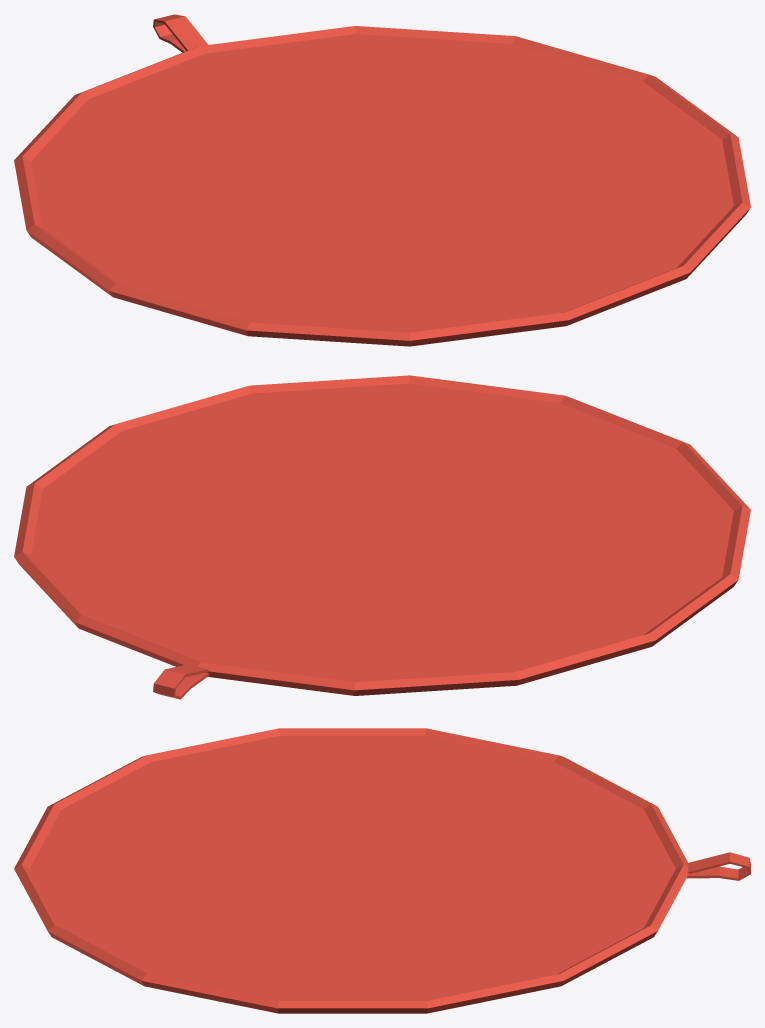
The model's file is SM_Light_Reflector_Silver.fbx.
The picture shows the model from 3 angles, top to bottom: view 1: azimuth 30°, elevation 25°; view 2: azimuth 150°, elevation 25°; view 3: azimuth 270°, elevation 25°; orthographic projection. The views are drawn at different scales.
Parts seen in each view (by area): view 1: SM_Light_Reflector_Silver; view 2: SM_Light_Reflector_Silver; view 3: SM_Light_Reflector_Silver.
Part boxes in pixels (x1=…): SM_Light_Reflector_Silver: x1=14, y1=14, x2=750, y2=346; SM_Light_Reflector_Silver: x1=14, y1=375, x2=750, y2=699; SM_Light_Reflector_Silver: x1=14, y1=728, x2=750, y2=1013.
Bounding box in the file's own units: 120 × 107 × 3.48.
